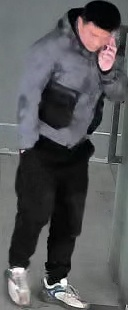phone: (76, 1, 127, 111)
